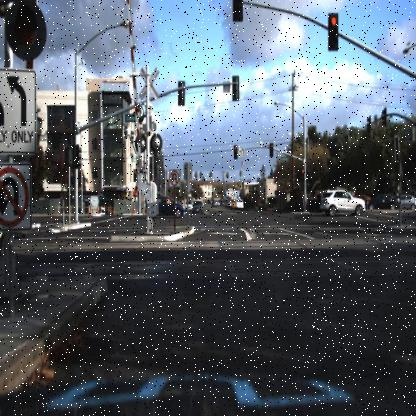car: (316, 182, 366, 219), (145, 193, 195, 221), (362, 191, 404, 214), (363, 192, 399, 212), (190, 198, 205, 219), (183, 199, 192, 219)
trafficLight: (4, 0, 46, 60), (232, 0, 243, 21)
trafficLight-Red: (327, 10, 339, 55), (268, 137, 276, 161), (231, 141, 239, 162), (299, 161, 307, 182)
